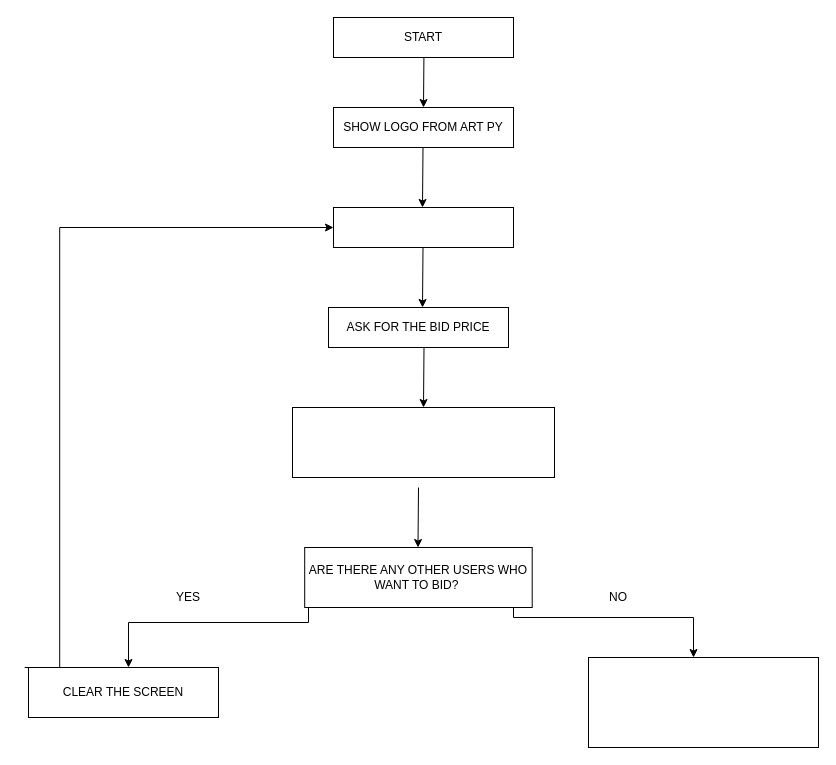
Image size: 836x765. Some labels were removed from this diagram. The shapes that lost their labels are listed below. From the top down, each one's centre as x and y in pixels, then its label:
At pixel 423 227: "ASK FOR NAME INPUT".
At pixel 423 442: "ADD NAME AND BID INTO A DICTIONARY AS THE KEY AND VALUE".
At pixel 703 702: "FIND THE HIGHEST BID IN THE DICTIONARY AND DECLARE THEM AS THE WINNER".
